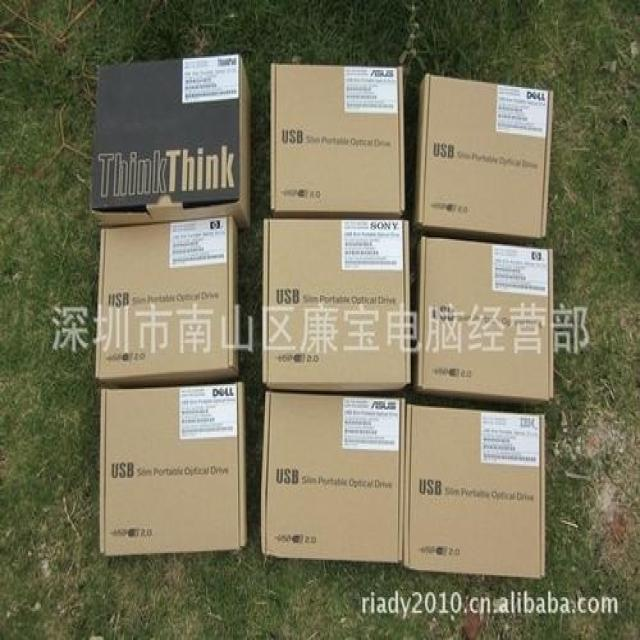box: (90, 56, 253, 231), (94, 215, 239, 392), (99, 384, 247, 557), (264, 220, 411, 392), (262, 392, 405, 562), (406, 405, 543, 579), (419, 237, 553, 409), (416, 75, 552, 244), (272, 65, 404, 219)
